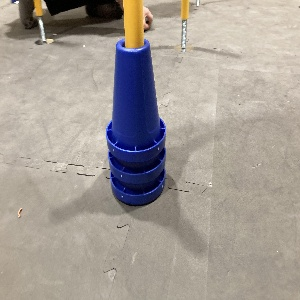Blue_3: (107, 37, 164, 207)
